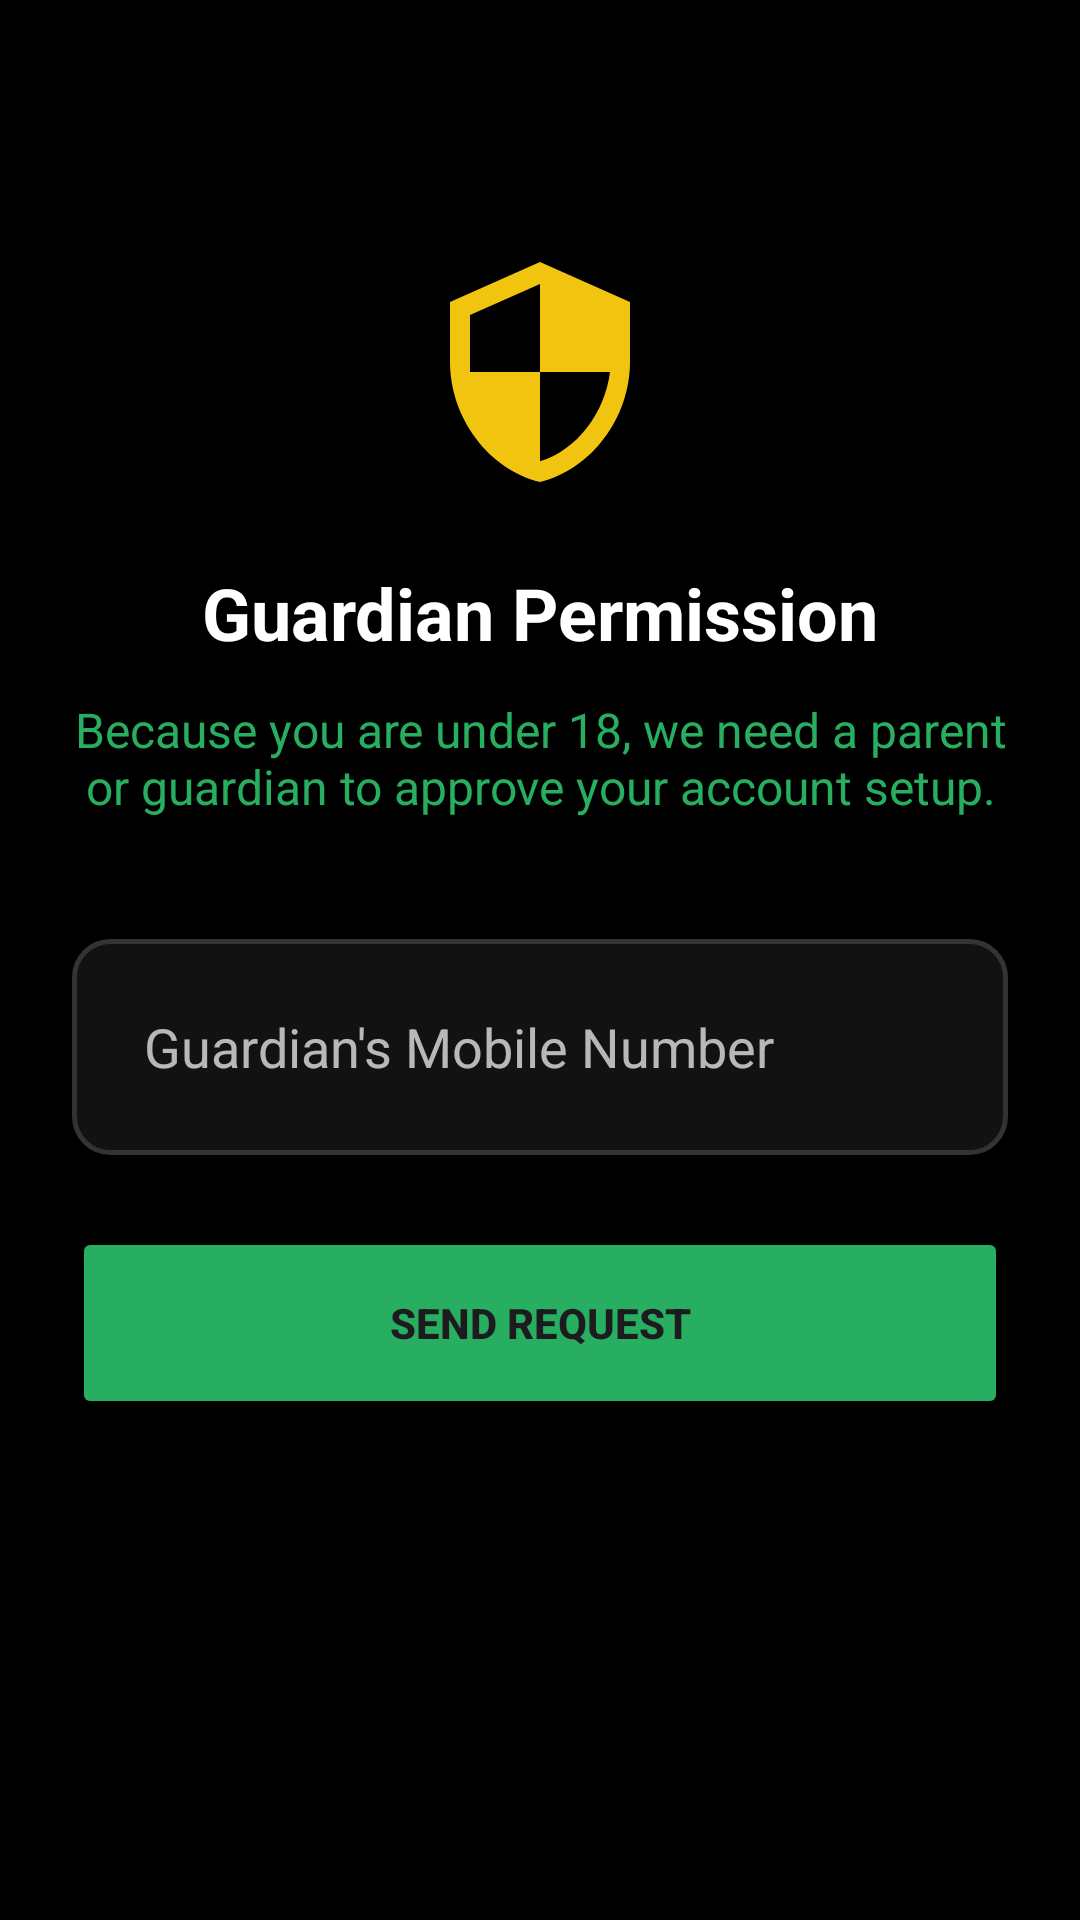

Icons on this 1080 × 1920 Android screen, each with its box as BBox(x1, y1, x2, y2):
shield gold: BBox(450, 262, 630, 482)
